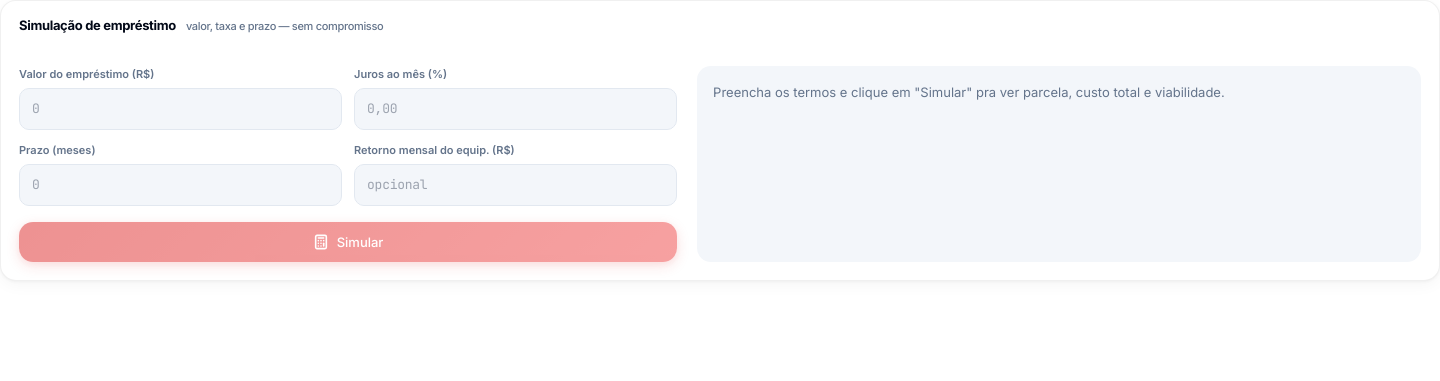
Scenario: Bancário › Simulador de empréstimo (smoke) › envia o retorno mensal esperado quando informado — habilita payback
This screenshot has width=1440, height=381.
Type "20000" into the number field labelled "Valor do empréstimo (R$)" at coordinates (180, 108), box top-left (19, 88), bottom-right (342, 130)
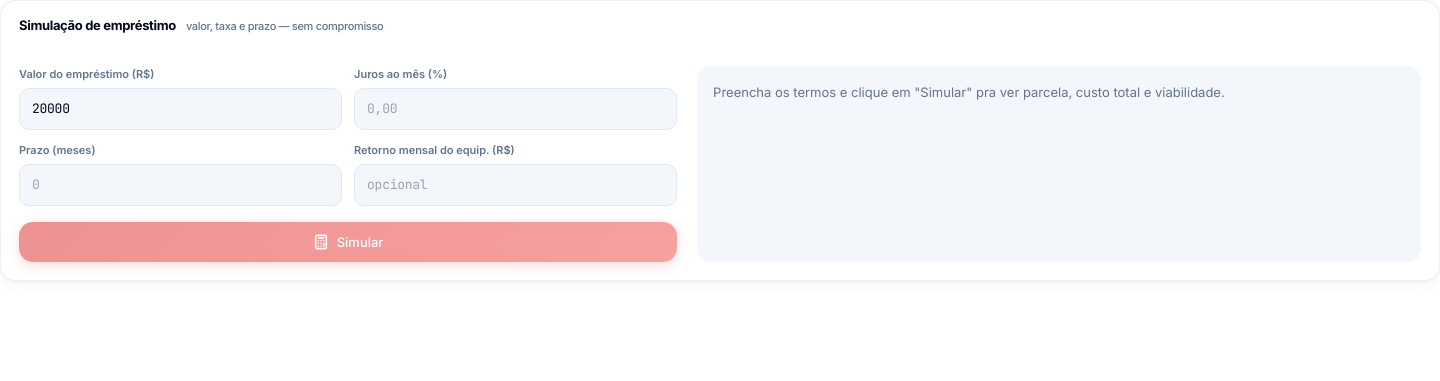
Type "1.5" into the number field labelled "Juros ao mês (%)" at coordinates (516, 108), box top-left (354, 88), bottom-right (677, 130)
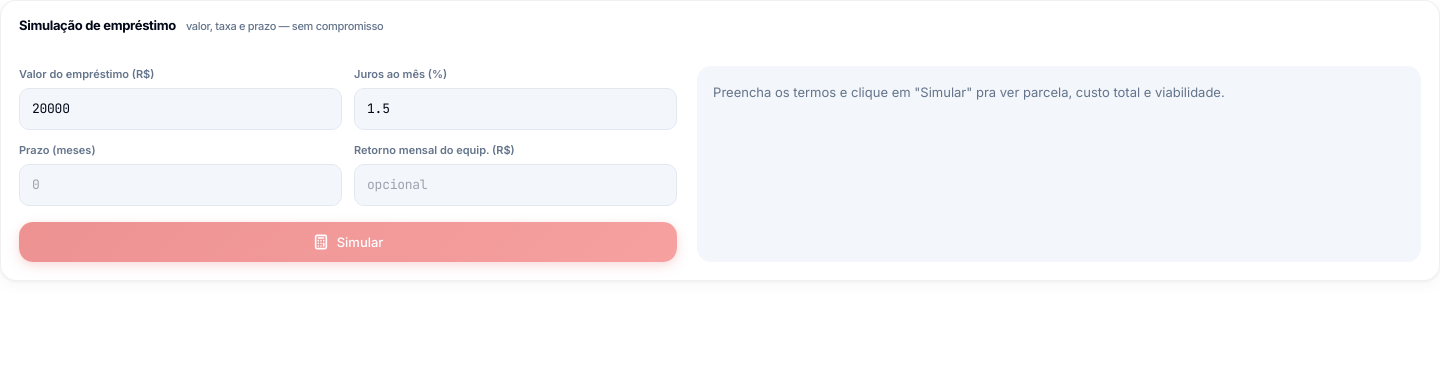
Type "12" into the number field labelled "Prazo (meses)" at coordinates (180, 184), box top-left (19, 164), bottom-right (342, 206)
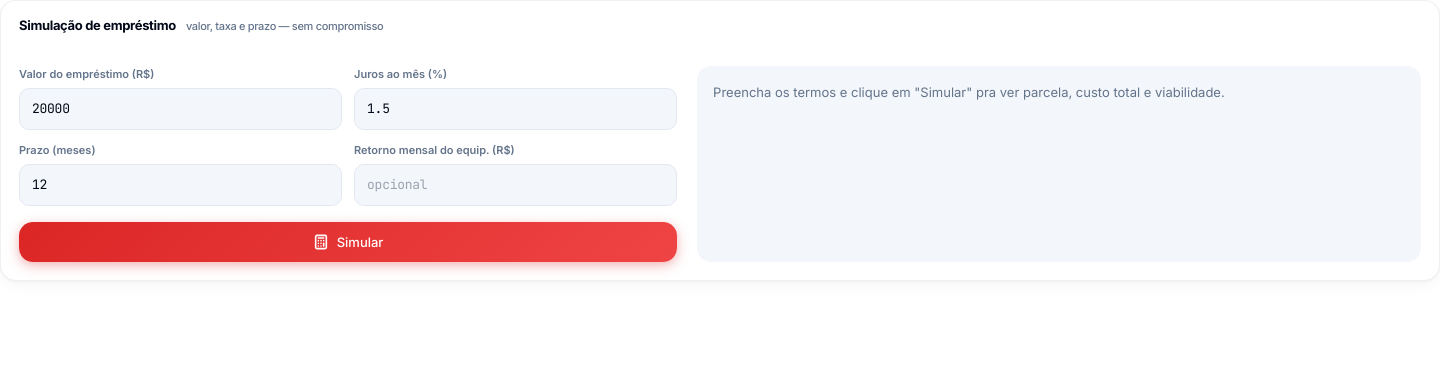
Type "3000" into the number field labelled "Retorno mensal do equip. (R$)" at coordinates (516, 184), box top-left (354, 164), bottom-right (677, 206)
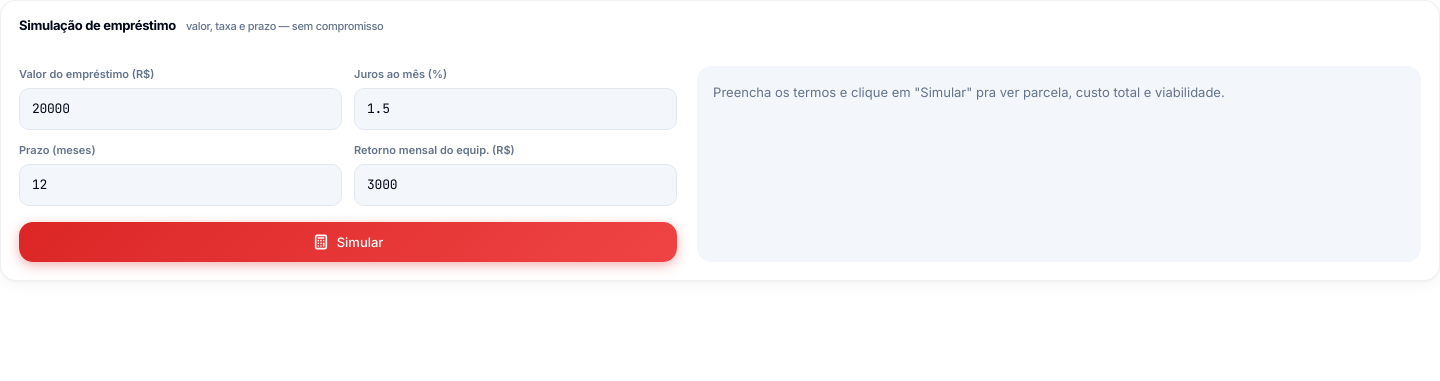
Click the button "Simular" at coordinates (348, 242), box top-left (19, 222), bottom-right (677, 262)
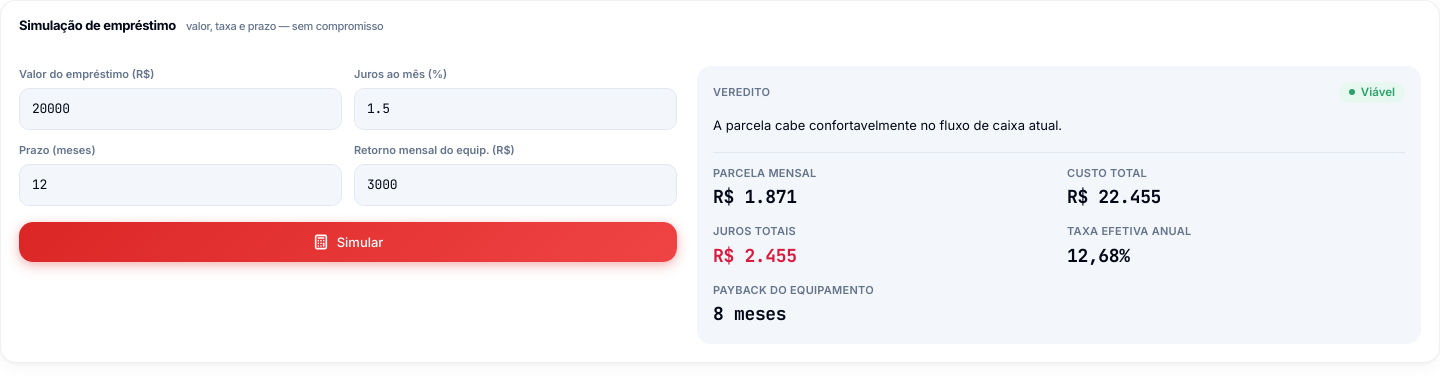
Check: the text "Viável" is shown, box top-left (1339, 82), bottom-right (1405, 103)
